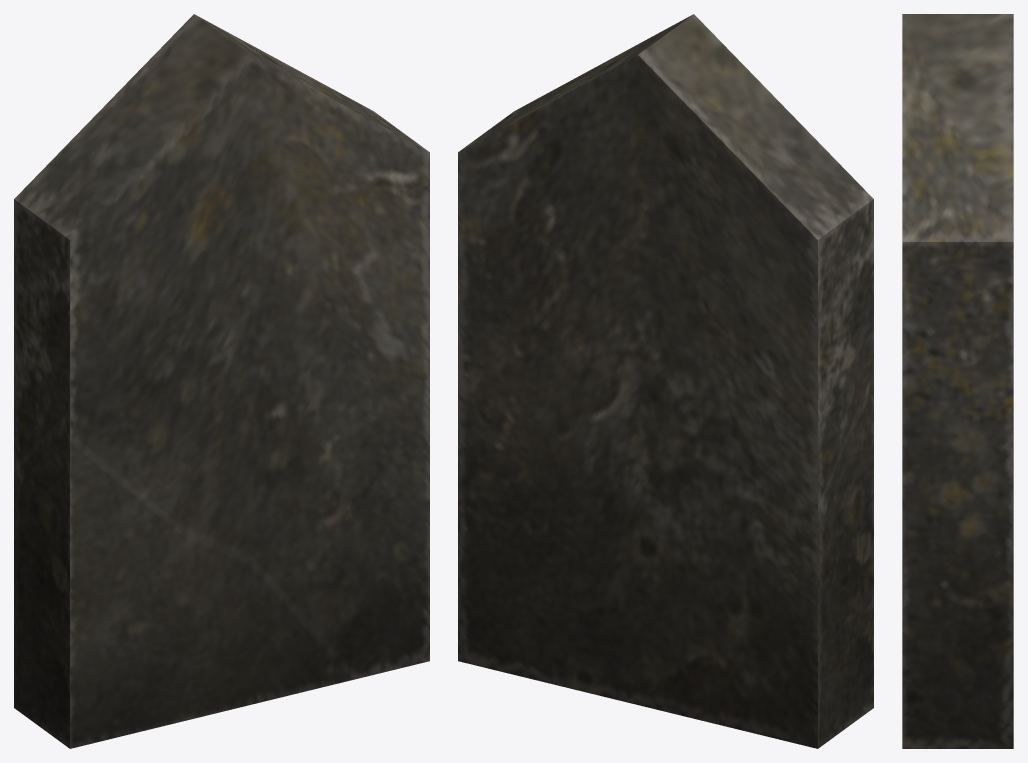
File: Headstone_8.fbx
3 renders of one model, left to right at view 1: azimuth 30°, elevation 25°; view 2: azimuth 150°, elevation 25°; view 3: azimuth 270°, elevation 25°, orthographic.
Parts seen in each view (by area): view 1: Headstone_8; view 2: Headstone_8; view 3: Headstone_8.
Part boxes in pixels (left/top/right/bottom): Headstone_8: left=14, top=14, right=429, bottom=748; Headstone_8: left=458, top=14, right=873, bottom=748; Headstone_8: left=902, top=14, right=1013, bottom=748.
Bounding box in the file's own units: 43.98 × 75.95 × 11.84.
